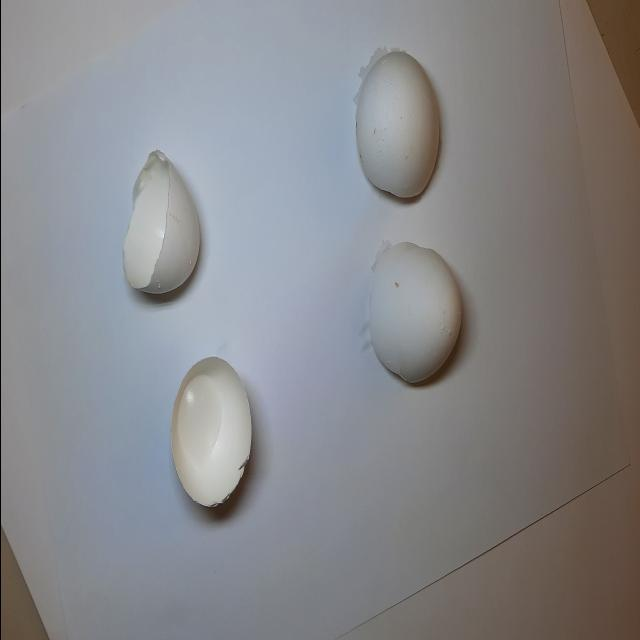egg shell: (337, 26, 451, 217), (350, 232, 470, 404), (157, 332, 260, 532), (110, 137, 210, 315)
